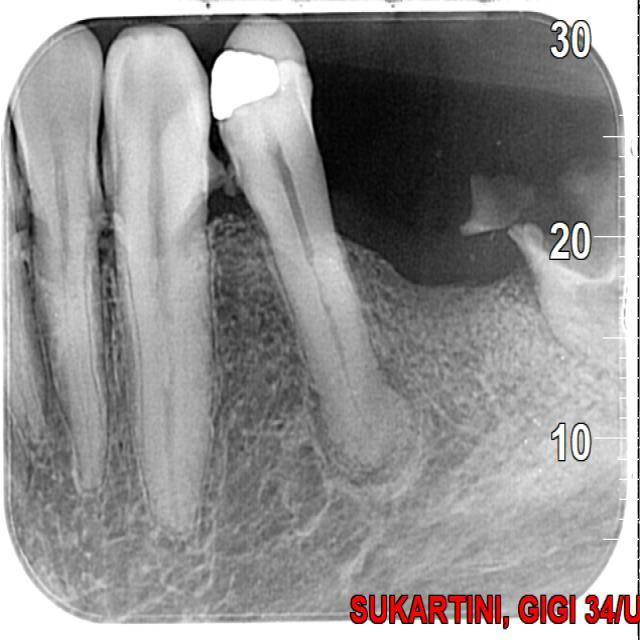individual-tooth-8tto: (216, 23, 383, 461), (97, 27, 221, 524)
